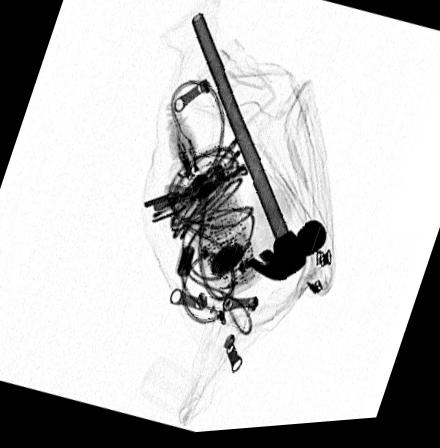Hammer: (190, 15, 327, 287)
